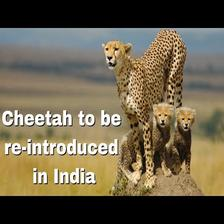Cheetah: (98, 30, 189, 147), (117, 102, 176, 188), (163, 107, 197, 178)
